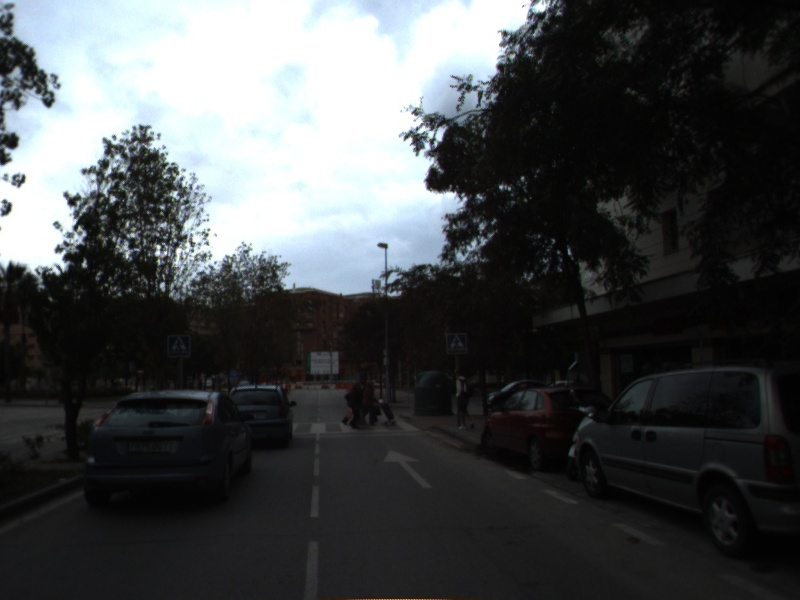STRAIGHT: (381, 448, 434, 490)
